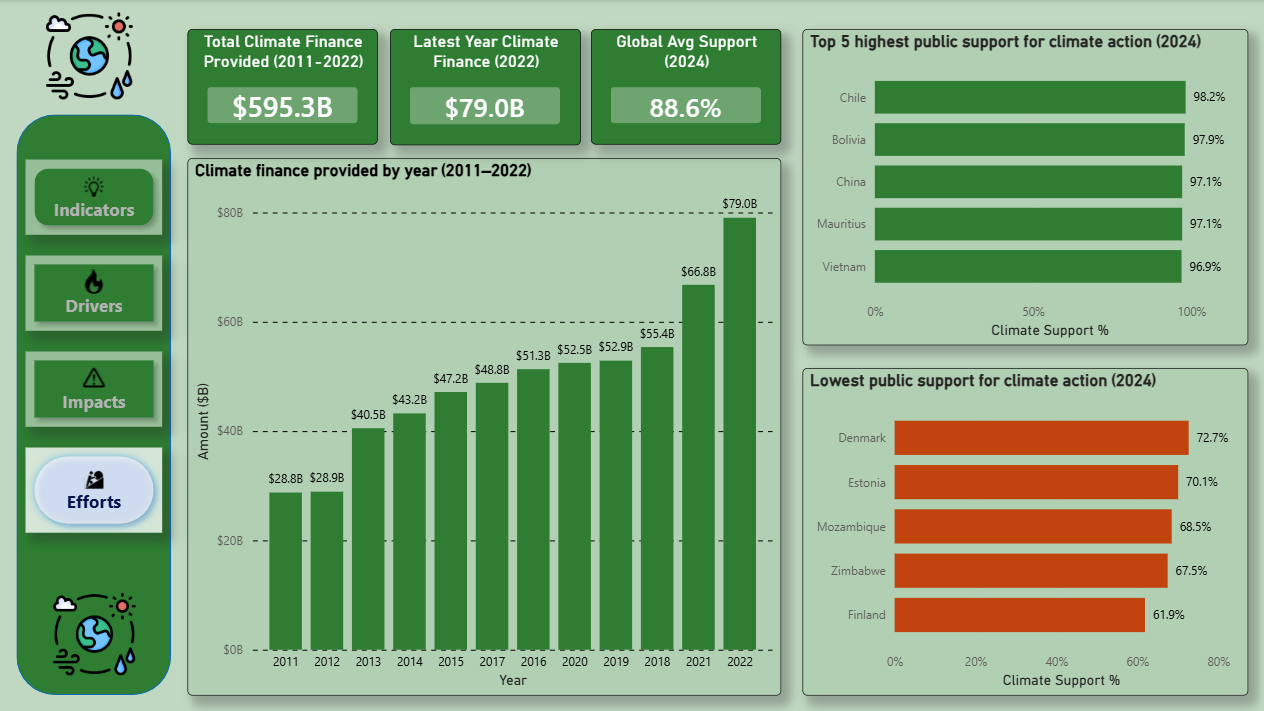

This screenshot's page, from the dashboard's own definition file:
{"tool":"powerbi","page":{"name":"Efforts","canvas":[1280,720],"ordinal":3},"visuals":[{"type":"shape","box":[16.7,116.6,156,586],"z":0},{"type":"actionButton","box":[26.2,355.7,138.3,75.7],"z":0,"group":"g1"},{"type":"actionButton","box":[26.2,161.6,138.3,75.7],"z":1000,"group":"g1"},{"type":"image","box":[36.3,598.1,118.1,86.3],"z":1000},{"type":"image","box":[7.6,12.1,165,90.9],"z":2000},{"type":"actionButton","box":[26.2,258.6,138.3,75.7],"z":2000,"group":"g1"},{"type":"group","id":"g1","title":"Group 1","box":[26.2,161.6,138.3,377],"z":3000},{"type":"actionButton","box":[26.2,452.7,138.3,85.9],"z":3000,"group":"g1"},{"type":"clusteredColumnChart","title":"Climate finance provided by year (2011–2022)","fields":{"Category":["green-climate-gcf-fund-pledges.Year"],"Y":["green-climate-gcf-fund-pledges.Climate Finance (Billions USD)"]},"box":[189,160.6,599.1,542.4],"z":4000},{"type":"clusteredBarChart","title":"Top 5 highest public support for climate action (2024)","fields":{"Category":["support-political-climate-action.Entity"],"Y":["support-political-climate-action.Climate Support %"]},"box":[810.7,30.2,449.8,319.4],"z":5000},{"type":"clusteredBarChart","title":"Lowest public support for climate action (2024)","fields":{"Category":["support-political-climate-action.Entity"],"Y":["support-political-climate-action.Climate Support %"]},"box":[810.7,372.3,449.8,330.7],"z":6000},{"type":"cardVisual","title":"Total Climate Finance Provided (2011-2022)","fields":{"Data":["green-climate-gcf-fund-pledges.Total Climate Finance (Billions USD)"]},"box":[189.3,30.3,192.3,116.6],"z":7000},{"type":"cardVisual","title":"Latest Year Climate Finance (2022)","fields":{"Data":["green-climate-gcf-fund-pledges.Latest Year Climate Finance (Billions USD)"]},"box":[393.1,30.2,192.8,117.2],"z":8000},{"type":"cardVisual","title":"Global Avg Support (2024)","fields":{"Data":["support-global-avg.Global Average Support"]},"box":[596.6,30.3,192.3,116.6],"z":9000}]}

Visuals, with their boxes in screenshot pixels (x1, y1, x2, y2), scaled from the page's 1280x720 canvas onto the 1264x711 screenshot:
shape: l=16, t=115, r=171, b=694
actionButton: l=26, t=351, r=162, b=426
actionButton: l=26, t=160, r=162, b=234
image: l=36, t=591, r=152, b=676
image: l=8, t=12, r=170, b=102
actionButton: l=26, t=255, r=162, b=330
"Group 1" group: l=26, t=160, r=162, b=532
actionButton: l=26, t=447, r=162, b=532
"Climate finance provided by year (2011–2022)" clusteredColumnChart: l=187, t=159, r=778, b=694
"Top 5 highest public support for climate action (2024)" clusteredBarChart: l=801, t=30, r=1245, b=345
"Lowest public support for climate action (2024)" clusteredBarChart: l=801, t=368, r=1245, b=694
"Total Climate Finance Provided (2011-2022)" cardVisual: l=187, t=30, r=377, b=145
"Latest Year Climate Finance (2022)" cardVisual: l=388, t=30, r=579, b=146
"Global Avg Support (2024)" cardVisual: l=589, t=30, r=779, b=145
